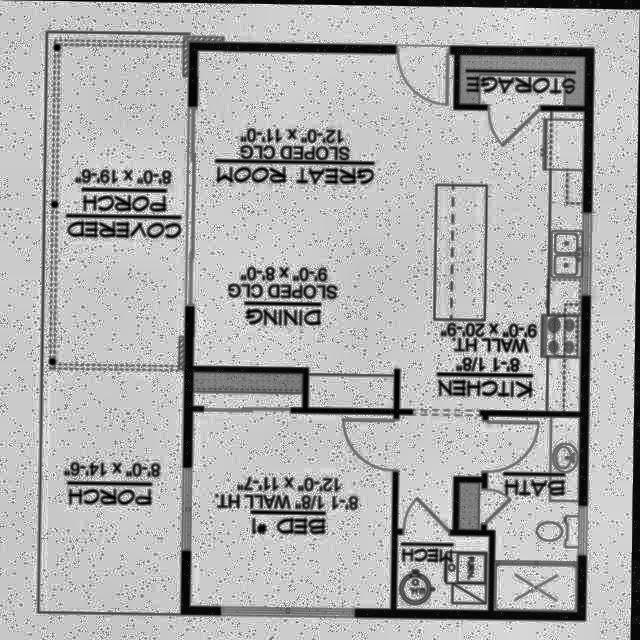room: (192, 50, 585, 411), (190, 410, 396, 609), (460, 414, 581, 610), (399, 413, 484, 530), (398, 533, 491, 609), (460, 55, 584, 103), (195, 372, 305, 407)
